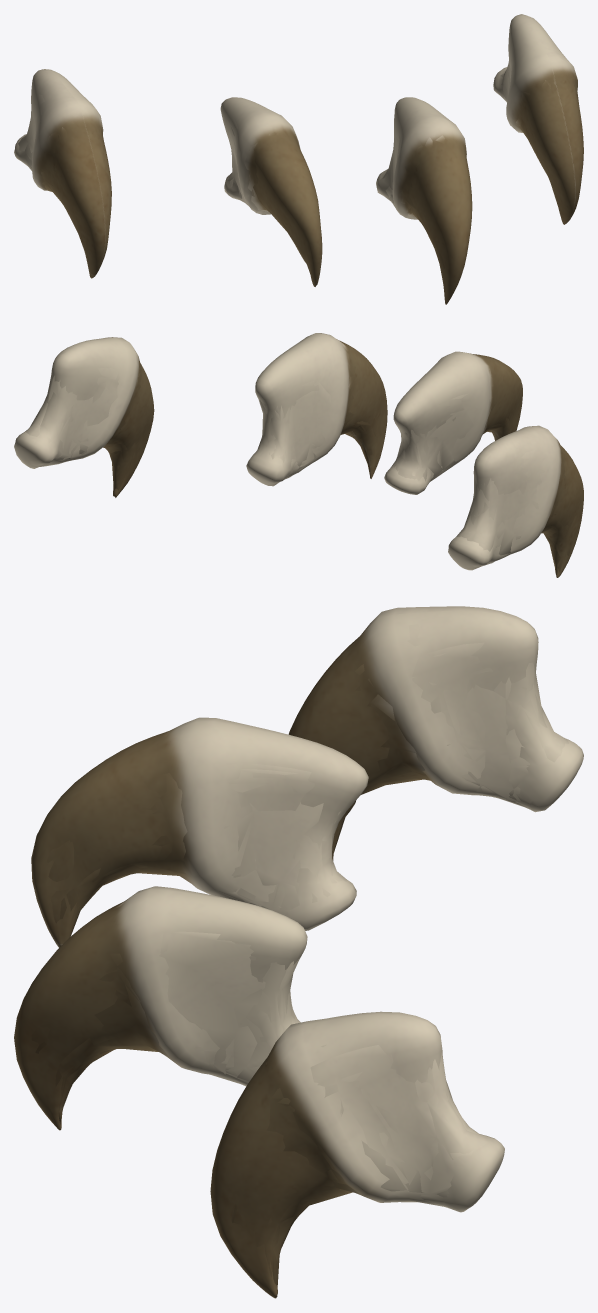
Rendered from FR 3rd Phalanx.fbx.
The picture shows the model from 3 angles, top to bottom: view 1: azimuth 30°, elevation 25°; view 2: azimuth 150°, elevation 25°; view 3: azimuth 270°, elevation 25°; orthographic projection. The views are drawn at different scales.
Visible parts, largest first — view 1: FR 3rd Phalanx high, FR 3rd Phalanx, FR 3rd Phalanx low; view 2: FR 3rd Phalanx high, FR 3rd Phalanx, FR 3rd Phalanx low; view 3: FR 3rd Phalanx high, FR 3rd Phalanx low, FR 3rd Phalanx.
Part boxes in pixels (box(x1,y1,x2,y2)): FR 3rd Phalanx high: box(14, 14, 583, 304); FR 3rd Phalanx: box(24, 46, 579, 281); FR 3rd Phalanx low: box(18, 57, 577, 273); FR 3rd Phalanx high: box(14, 333, 583, 577); FR 3rd Phalanx: box(25, 353, 577, 572); FR 3rd Phalanx low: box(26, 339, 568, 572); FR 3rd Phalanx high: box(14, 606, 583, 1298); FR 3rd Phalanx low: box(35, 653, 568, 1286); FR 3rd Phalanx: box(31, 624, 547, 1277).
Bounding box in the file's own units: 8.96 × 3.51 × 5.34.
